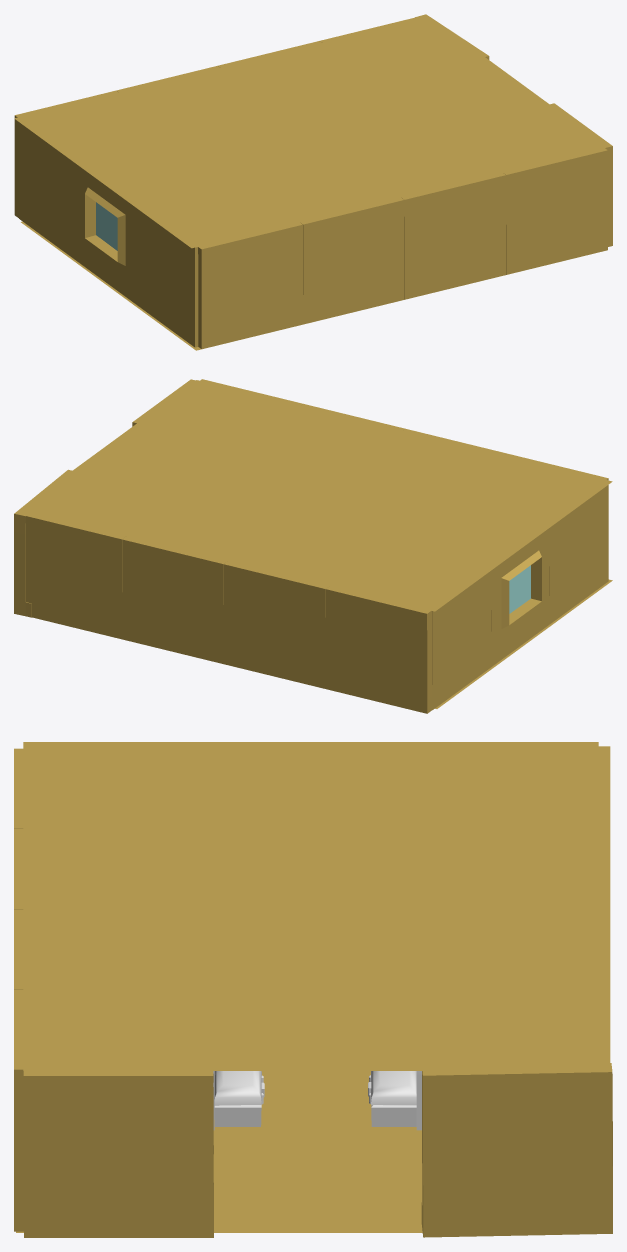
Rendered from NGJ_BaseMilitar.fbx.
3 views of the same model, one above another, from view 1: azimuth 30°, elevation 25°; view 2: azimuth 150°, elevation 25°; view 3: azimuth 270°, elevation 25° (orthographic). The views are drawn at different scales.
Parts seen in each view (by area): view 1: env_Parede.008, env_Parede.002, env_Parede.000, env_Parede.001; view 2: env_Parede.008, env_Parede.000, env_Parede.001, env_Parede.002; view 3: env_Parede.008, env_Parede.001, env_Parede.002, env_Parede.000, Cube.001, Cube.007.
Part boxes in pixels (x1=…): env_Parede.008: x1=14, y1=17, x2=607, y2=350; env_Parede.002: x1=198, y1=147, x2=607, y2=348; env_Parede.000: x1=14, y1=16, x2=423, y2=217; env_Parede.001: x1=415, y1=14, x2=612, y2=246; env_Parede.008: x1=19, y1=380, x2=612, y2=709; env_Parede.000: x1=21, y1=511, x2=432, y2=713; env_Parede.001: x1=14, y1=379, x2=195, y2=617; env_Parede.002: x1=200, y1=379, x2=608, y2=519; env_Parede.008: x1=16, y1=742, x2=598, y2=1232; env_Parede.001: x1=23, y1=1063, x2=612, y2=1237; env_Parede.002: x1=14, y1=748, x2=23, y2=1231; env_Parede.000: x1=598, y1=746, x2=610, y2=1067; Cube.001: x1=214, y1=1071, x2=264, y2=1126; Cube.007: x1=368, y1=1071, x2=416, y2=1126.
Bounding box in the file's own units: 4432 × 1013 × 3356.
